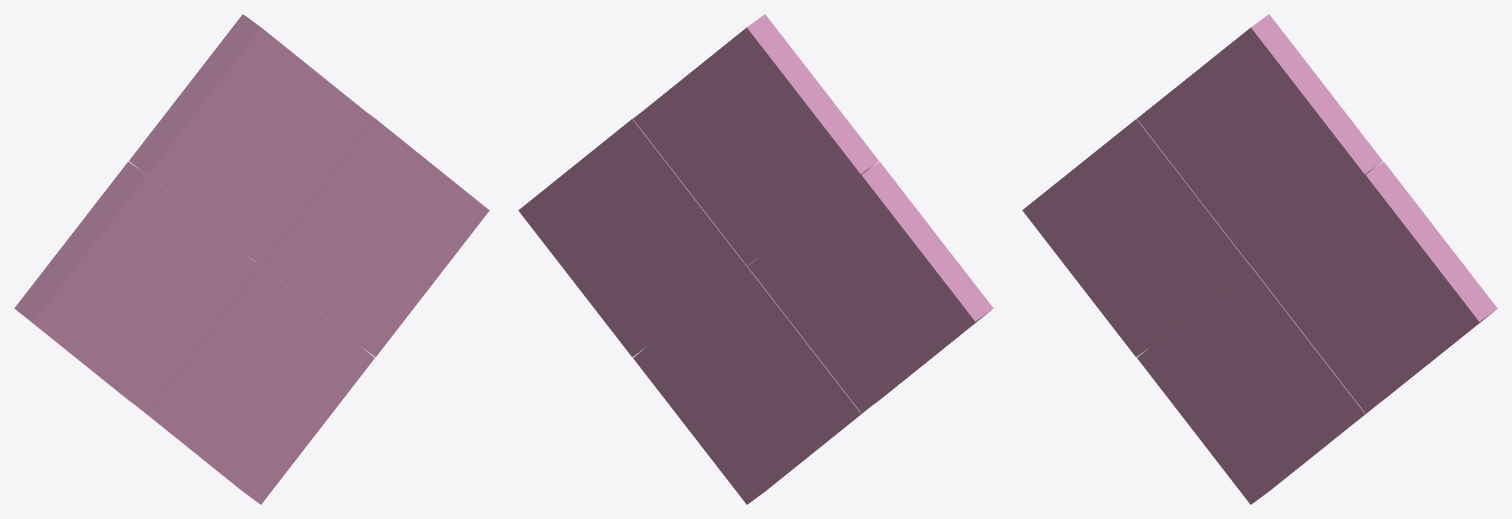
Rendered from Boost1.fbx.
3 views of the same model, side by side, from view 1: azimuth 30°, elevation 25°; view 2: azimuth 150°, elevation 25°; view 3: azimuth 330°, elevation 25° (orthographic).
Visible parts, largest first — view 1: Cube_000, Cube_002, Cube_003, Cube_001; view 2: Cube_000, Cube_002, Cube_003, Cube_001; view 3: Cube_001, Cube_002, Cube_003, Cube_000.
Part boxes in pixels (x1=…): Cube_000: x1=14, y1=161, x2=259, y2=413; Cube_002: x1=129, y1=14, x2=374, y2=265; Cube_003: x1=138, y1=263, x2=374, y2=504; Cube_001: x1=253, y1=115, x2=489, y2=357; Cube_000: x1=748, y1=161, x2=993, y2=413; Cube_002: x1=633, y1=14, x2=878, y2=265; Cube_003: x1=633, y1=263, x2=869, y2=504; Cube_001: x1=518, y1=115, x2=754, y2=357; Cube_001: x1=1251, y1=161, x2=1497, y2=412; Cube_002: x1=1137, y1=14, x2=1382, y2=265; Cube_003: x1=1137, y1=266, x2=1376, y2=504; Cube_000: x1=1022, y1=118, x2=1261, y2=356.
Size of the model in its own units: 1.52 by 1.52 by 0.1054.
